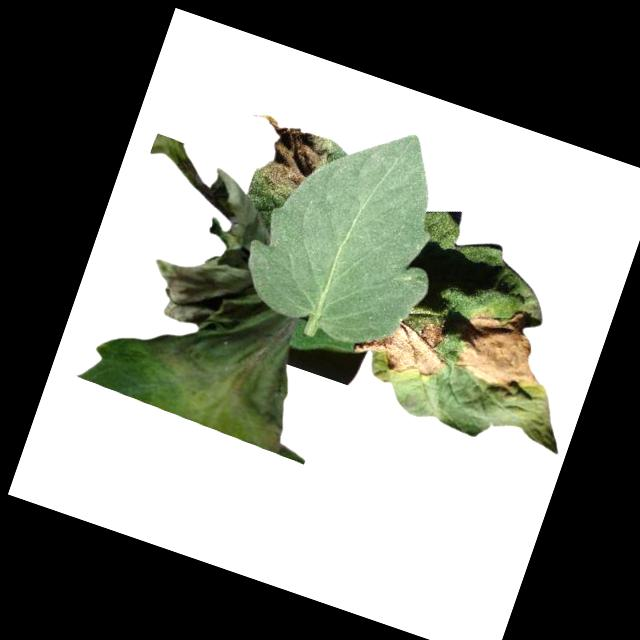Late_blight: (93, 132, 294, 345), (127, 274, 321, 453), (446, 292, 561, 404), (233, 107, 336, 203), (350, 297, 456, 387)
healthy: (229, 95, 475, 362)
